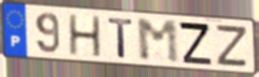9: (33, 11, 61, 55)
H: (67, 13, 104, 59)
M: (134, 18, 183, 65)
T: (107, 16, 136, 60)
Z: (177, 20, 214, 67), (215, 24, 249, 69)
